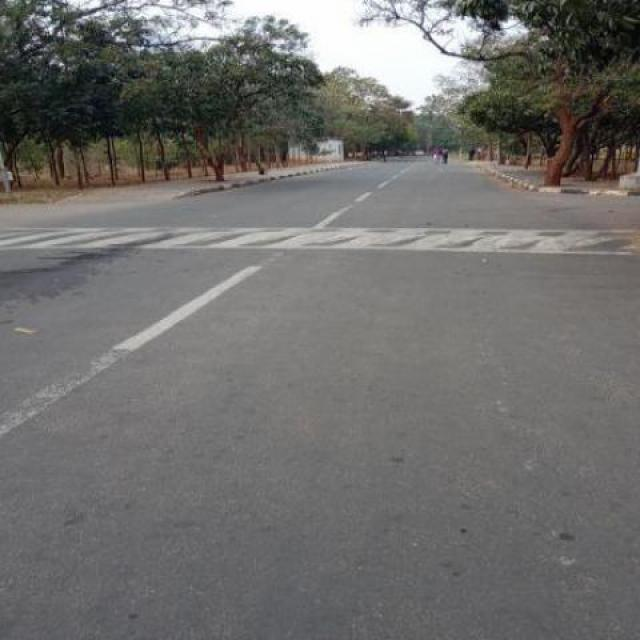Speed Bump: (1, 227, 639, 260)
